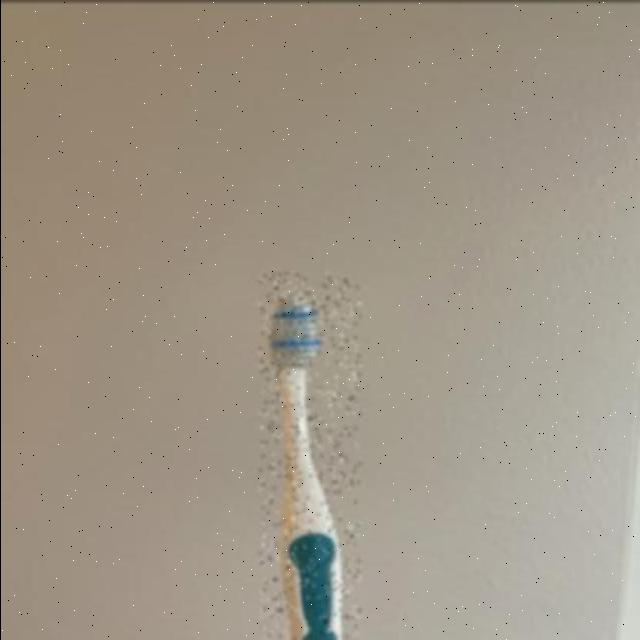toothbrush: (258, 270, 359, 640)
